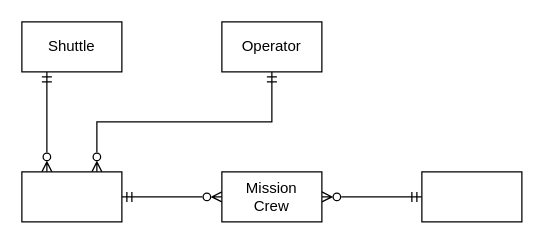
This 544x244 diagram has some shape labels left out. The shapes that lost their labels are listed below. From the top down, each one's box as (x1, y1, x2, y2) in pixels, then its label:
(21, 171, 122, 222): Mission
(421, 171, 522, 222): Astronaut
